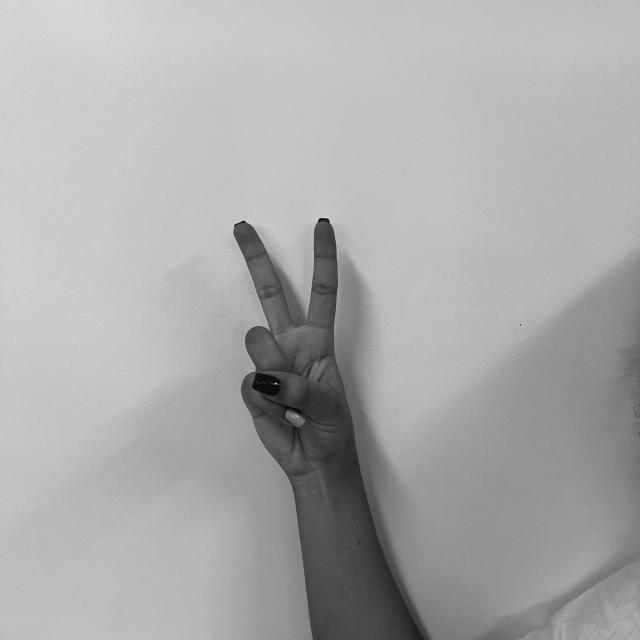Letra V: (228, 212, 362, 473)
